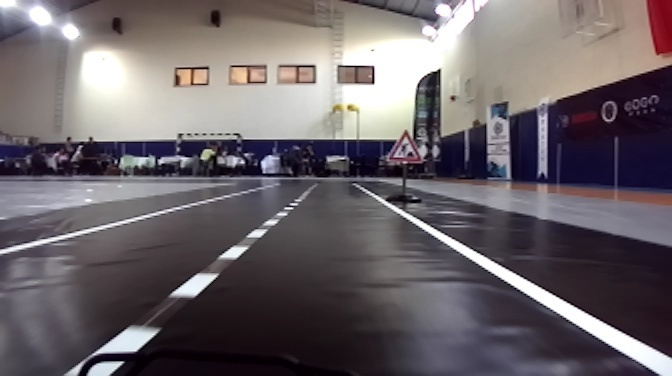yol_yapimi: (385, 128, 421, 165)
